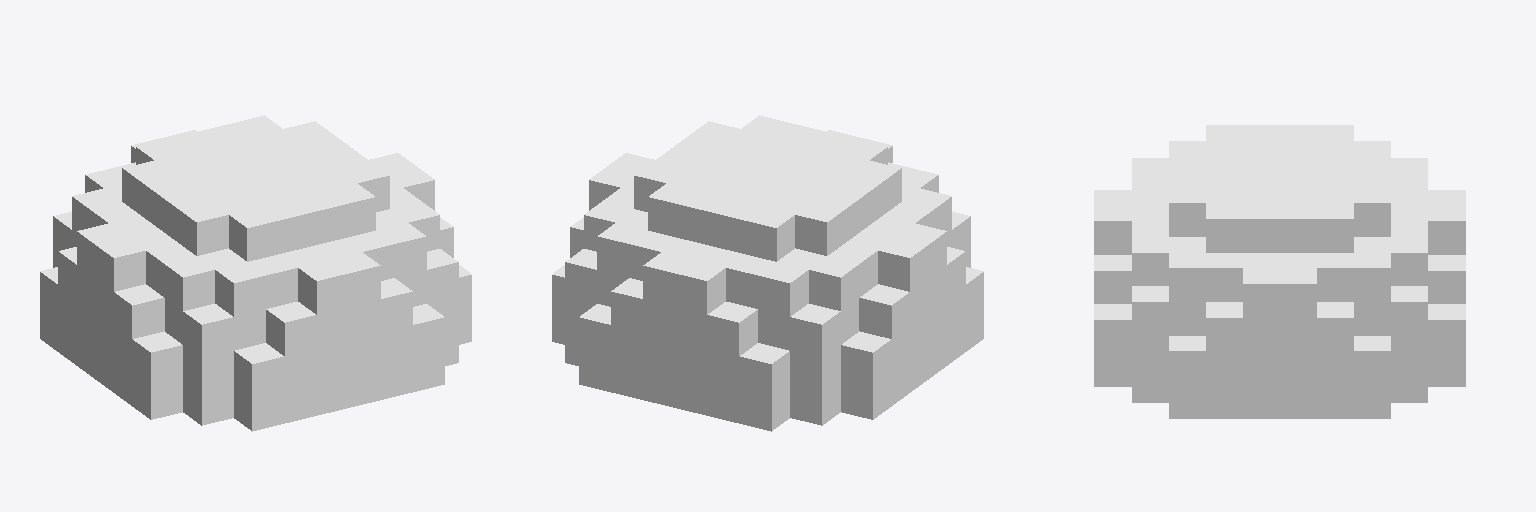
Rendered from bat44.obj.
3 views of the same model, side by side, from view 1: azimuth 30°, elevation 25°; view 2: azimuth 150°, elevation 25°; view 3: azimuth 270°, elevation 25° (orthographic).
Size of the model in its own units: 10 by 5 by 10.